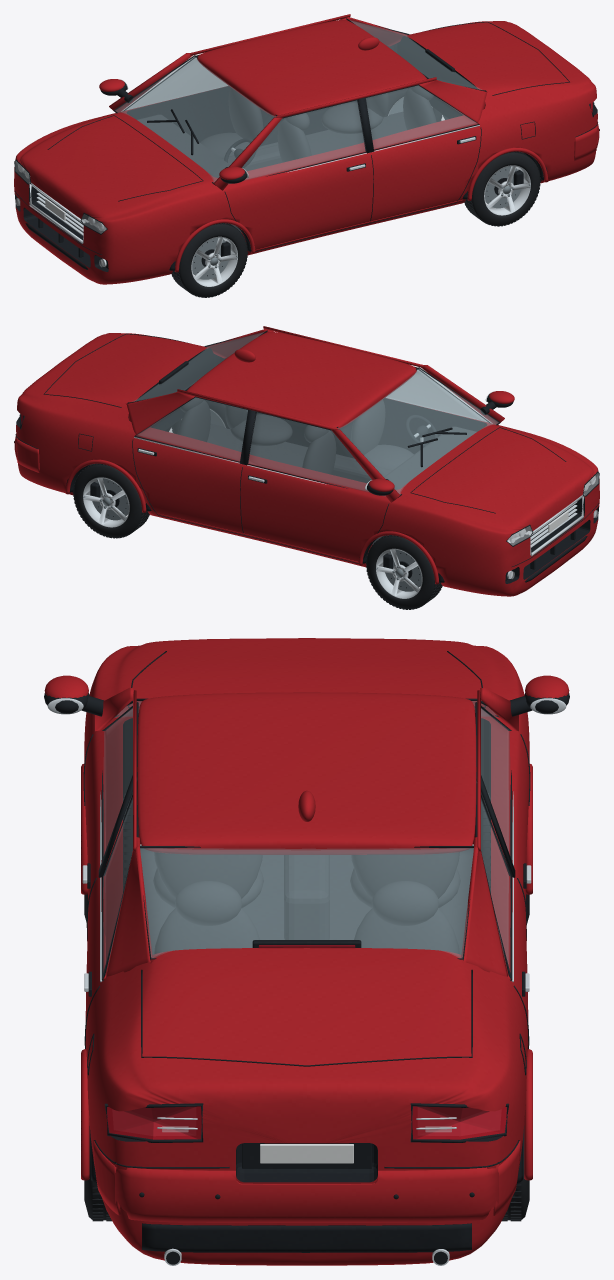
Rendered from sedan.glb.
The picture shows the model from 3 angles, top to bottom: view 1: azimuth 30°, elevation 25°; view 2: azimuth 150°, elevation 25°; view 3: azimuth 270°, elevation 25°; orthographic projection. The views are drawn at different scales.
Parts seen in each view (by area): view 1: Watertight 14-station body shell, Crowned roof pressing, Raked laminated windshield, Front side door glass, Rear side door glass, 107 reused Sculpted_tyre, 107 reused Sculpted_tyre.002, Sloping rear glass, Front side door glass.001, Instrument panel, Cabin carpet, Surface integrated sedan rear roof pillar (+21 smaller); view 2: Watertight 14-station body shell, Crowned roof pressing, Raked laminated windshield, Front side door glass.001, Rear side door glass.001, 107 reused Sculpted_tyre.001, 107 reused Sculpted_tyre.003, Sloping rear glass, Front side door glass, Instrument panel, Cabin carpet, Surface integrated sedan rear roof pillar.001 (+21 smaller); view 3: Watertight 14-station body shell, Crowned roof pressing, Sloping rear glass, Formed painted rear bumper cover, Sculpted rear lower bumper insert, Cabin carpet, Center console, Contoured seat back, Contoured seat back.001, Surface integrated sedan rear roof pillar.001, Surface integrated sedan rear roof pillar, Contoured seat back.002 (+21 smaller).
Boxes of the visible parts, x1,y1,x2,y2 form: Watertight 14-station body shell: (14, 21, 597, 284); Crowned roof pressing: (197, 20, 426, 116); Raked laminated windshield: (115, 56, 275, 182); Front side door glass: (228, 100, 365, 184); Rear side door glass: (366, 85, 477, 149); 107 reused Sculpted_tyre: (172, 223, 247, 297); 107 reused Sculpted_tyre.002: (465, 151, 539, 225); Sloping rear glass: (350, 20, 481, 89); Front side door glass.001: (127, 58, 227, 109); Instrument panel: (137, 114, 229, 177); Cabin carpet: (223, 112, 406, 240); Surface integrated sedan rear roof pillar: (419, 80, 487, 122); Watertight 14-station body shell: (16, 333, 599, 596); Crowned roof pressing: (187, 332, 416, 428); Raked laminated windshield: (338, 368, 498, 494); Front side door glass.001: (248, 412, 385, 496); Rear side door glass.001: (136, 397, 247, 461); 107 reused Sculpted_tyre.001: (366, 535, 441, 609); 107 reused Sculpted_tyre.003: (73, 464, 148, 537); Sloping rear glass: (132, 332, 263, 401); Front side door glass: (386, 370, 486, 421); Instrument panel: (384, 426, 476, 489); Cabin carpet: (207, 424, 390, 552); Surface integrated sedan rear roof pillar.001: (126, 392, 194, 434); Watertight 14-station body shell: (84, 638, 529, 1265); Crowned roof pressing: (137, 692, 476, 854); Sloping rear glass: (140, 848, 473, 958); Formed painted rear bumper cover: (115, 1164, 498, 1222); Sculpted rear lower bumper insert: (142, 1223, 471, 1252); Cabin carpet: (140, 845, 473, 954); Center console: (284, 855, 329, 939); Contoured seat back: (154, 852, 262, 898); Contoured seat back.001: (351, 852, 459, 898); Surface integrated sedan rear roof pillar.001: (461, 837, 507, 976); Surface integrated sedan rear roof pillar: (106, 837, 152, 976); Contoured seat back.002: (154, 908, 259, 953).
Size of the model in its own units: 4.84 by 1.55 by 2.18.
10 materials, 10 textured.
